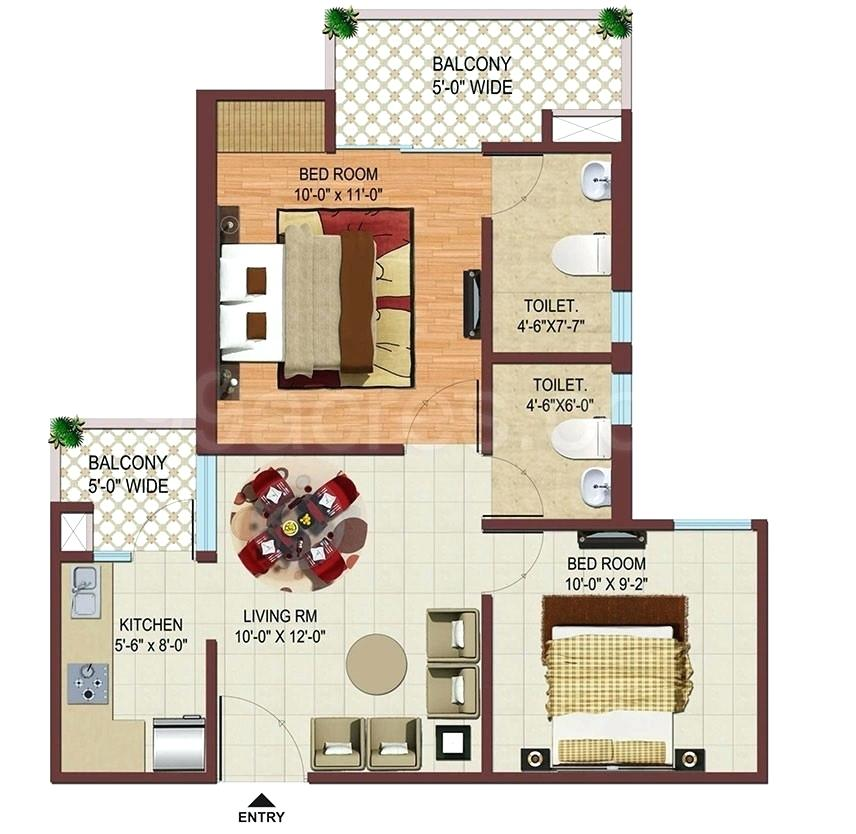room: (205, 443, 494, 785), (196, 153, 492, 456), (482, 517, 768, 782), (51, 551, 220, 785)
